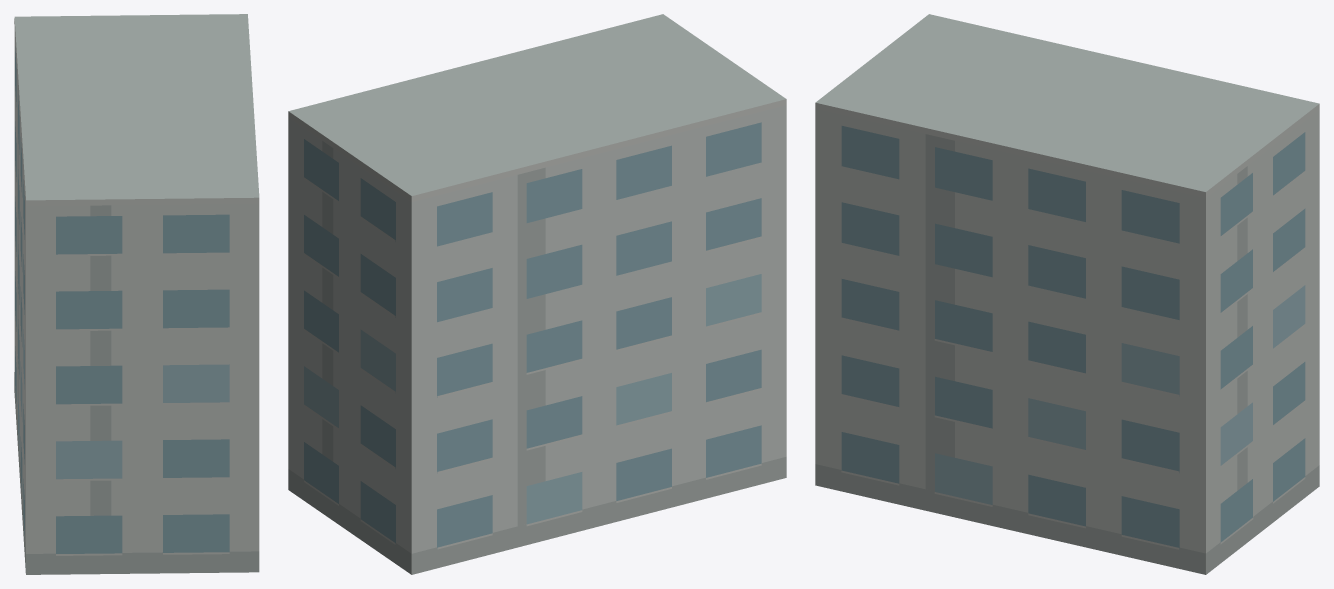
File: residential-a4b945e2-2b07-4e06-a137-6c7d54fc41f6.glb
The picture shows the model from 3 angles, left to right: view 1: azimuth 30°, elevation 25°; view 2: azimuth 150°, elevation 25°; view 3: azimuth 270°, elevation 25°; orthographic projection. The views are drawn at different scales.
Parts seen in each view (by area): view 1: residential-a4b945e2-2b07-4e06-a137-6c7d54fc41f6.tmp; view 2: residential-a4b945e2-2b07-4e06-a137-6c7d54fc41f6.tmp; view 3: residential-a4b945e2-2b07-4e06-a137-6c7d54fc41f6.tmp.
Boxes of the visible parts, left/top/right/bottom form: residential-a4b945e2-2b07-4e06-a137-6c7d54fc41f6.tmp: left=14, top=14, right=259, bottom=574; residential-a4b945e2-2b07-4e06-a137-6c7d54fc41f6.tmp: left=288, top=14, right=786, bottom=574; residential-a4b945e2-2b07-4e06-a137-6c7d54fc41f6.tmp: left=815, top=14, right=1319, bottom=574.
Bounding box in the file's own units: 15.23 × 15.25 × 18.22.
